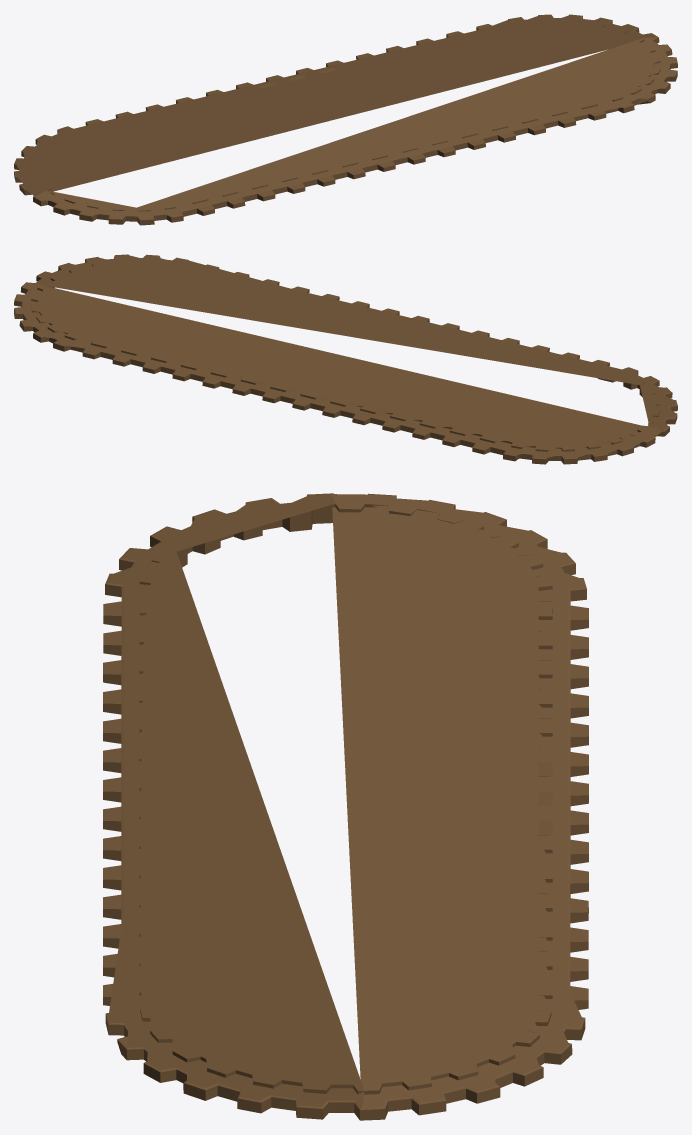
Rendered from gear_chain.fbx.
3 views of the same model, one above another, from view 1: azimuth 30°, elevation 25°; view 2: azimuth 150°, elevation 25°; view 3: azimuth 270°, elevation 25° (orthographic). The views are drawn at different scales.
Parts seen in each view (by area): view 1: GearBig.024; view 2: GearBig.024; view 3: GearBig.024.
Boxes of the visible parts, x1,y1,x2,y2 form: GearBig.024: (14, 14, 677, 225); GearBig.024: (14, 254, 677, 464); GearBig.024: (103, 493, 588, 1120).
Size of the model in its own units: 80.89 by 1.17 by 26.94.
